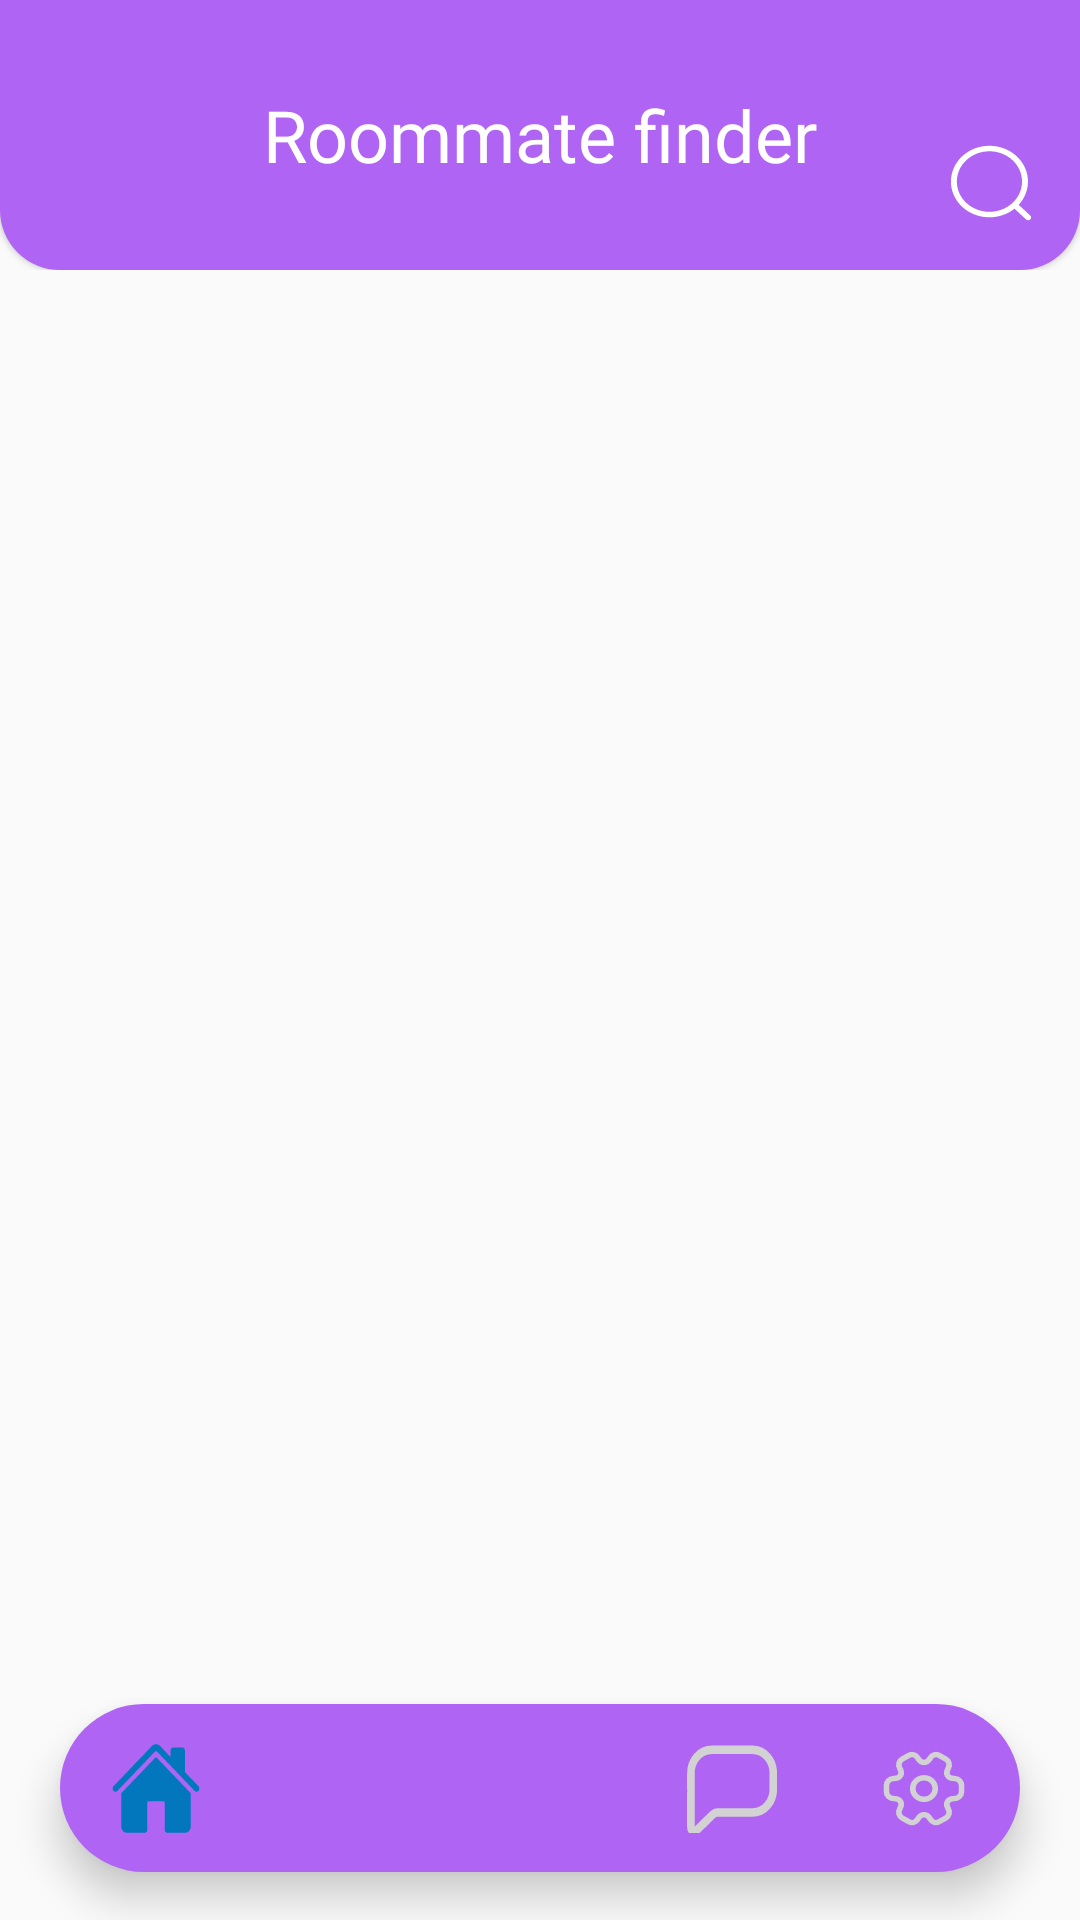

Icons on this 1080 × 1920 Android screen, each with its box as (x1,y1,x2,y2):
searchsvg: (951,145,1031,221)
